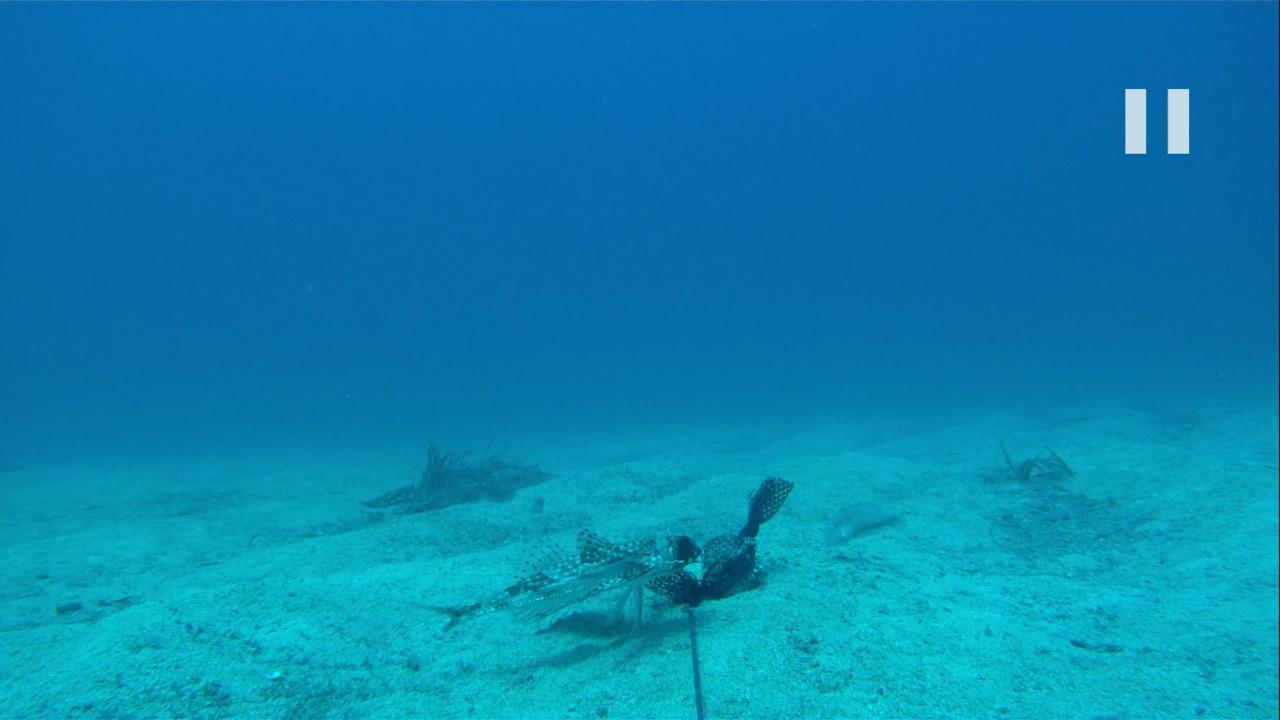dactylopterus: (406, 524, 708, 646)
raor: (821, 502, 904, 546)
